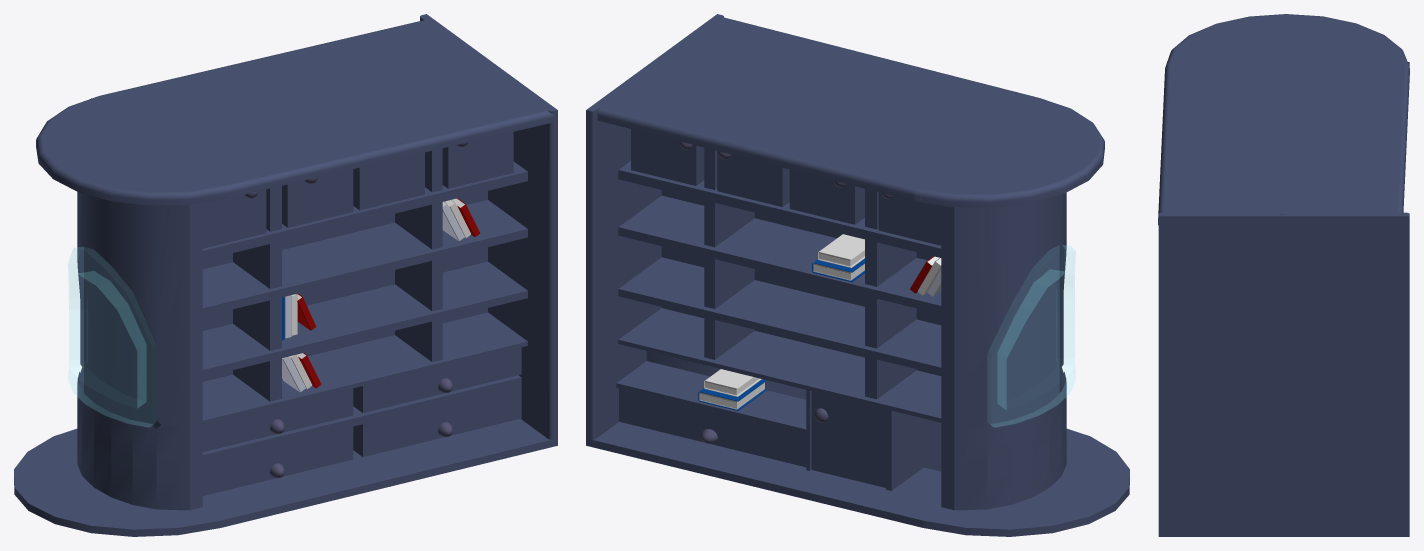
Rendered from library.fbx.
The picture shows the model from 3 angles, left to right: view 1: azimuth 30°, elevation 25°; view 2: azimuth 150°, elevation 25°; view 3: azimuth 270°, elevation 25°; orthographic projection. The views are drawn at different scales.
Visible parts, largest first — view 1: library2:libbody, library2:pCylinder29, library2:pCylinder28, library2:pCylinder30, library2:pCylinder27; view 2: library2:libbody, library2:pCylinder31, pCylinder23; view 3: library2:libbody.
Part boxes in pixels (left/top/right/bottom): library2:libbody: left=14, top=14, right=557, bottom=536; library2:pCylinder29: left=353, top=385, right=521, bottom=456; library2:pCylinder28: left=202, top=426, right=353, bottom=495; library2:pCylinder30: left=353, top=347, right=521, bottom=412; library2:pCylinder27: left=202, top=388, right=353, bottom=451; library2:libbody: left=586, top=14, right=1129, bottom=536; library2:pCylinder31: left=619, top=388, right=806, bottom=467; pCylinder23: left=811, top=391, right=885, bottom=487; library2:libbody: left=1158, top=14, right=1409, bottom=536.
Size of the model in its own units: 8.97 by 6.2 by 4.42.
